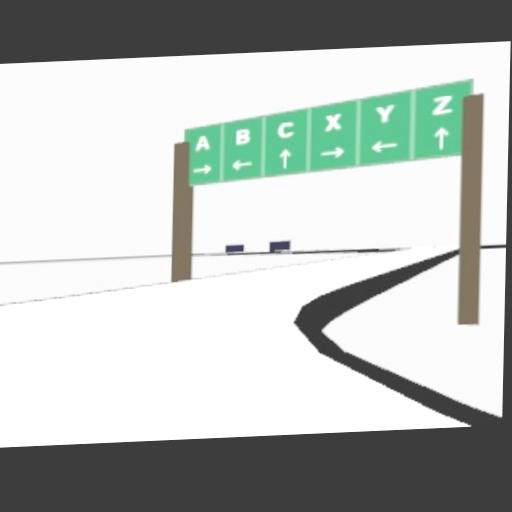A: (194, 134, 211, 152)
B: (235, 128, 251, 144)
C: (278, 119, 294, 138)
Left: (369, 139, 398, 154), (231, 159, 253, 172)
Right: (319, 147, 345, 159), (192, 162, 212, 175)
Straight: (433, 125, 450, 152), (278, 148, 292, 170)
X: (325, 113, 341, 131)
Y: (375, 103, 393, 124)
Z: (432, 94, 452, 115)
